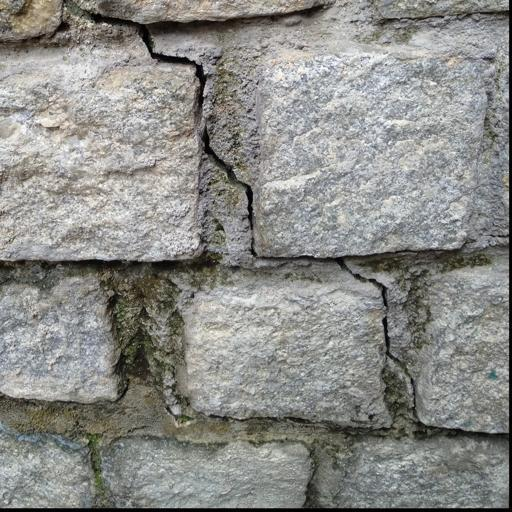major_crack: (64, 0, 508, 451)
